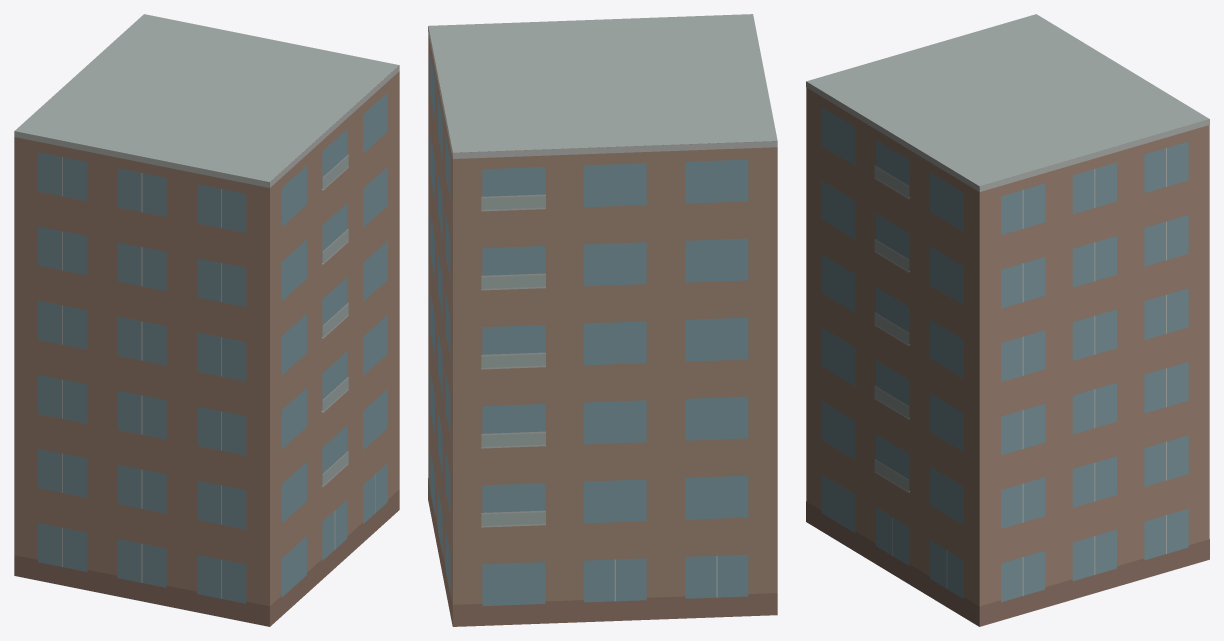
The model's file is survey-upis-32753631.glb.
3 views of the same model, side by side, from view 1: azimuth 30°, elevation 25°; view 2: azimuth 150°, elevation 25°; view 3: azimuth 270°, elevation 25° (orthographic). The views are drawn at different scales.
Parts seen in each view (by area): view 1: survey-upis-32753631.tmp; view 2: survey-upis-32753631.tmp; view 3: survey-upis-32753631.tmp.
Part boxes in pixels (left/top/right/bottom): survey-upis-32753631.tmp: left=14, top=14, right=399, bottom=626; survey-upis-32753631.tmp: left=428, top=14, right=777, bottom=626; survey-upis-32753631.tmp: left=806, top=14, right=1209, bottom=626.
Size of the model in its own units: 15.36 by 18.3 by 15.2.
